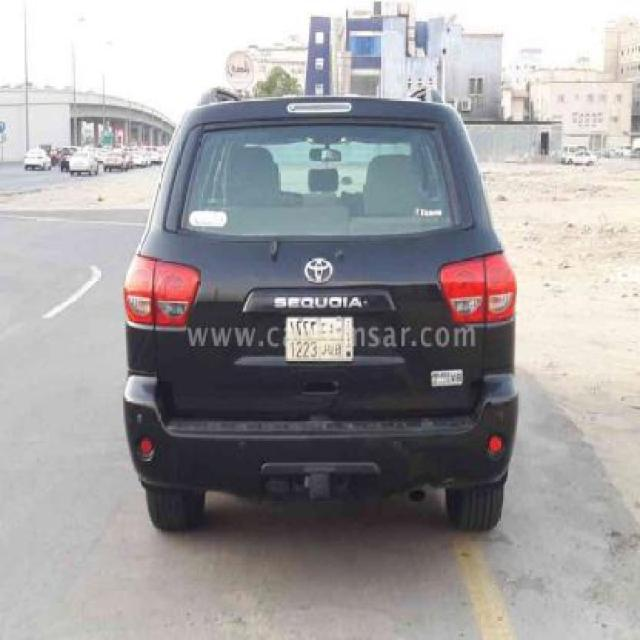license_plate: (284, 314, 354, 362)
